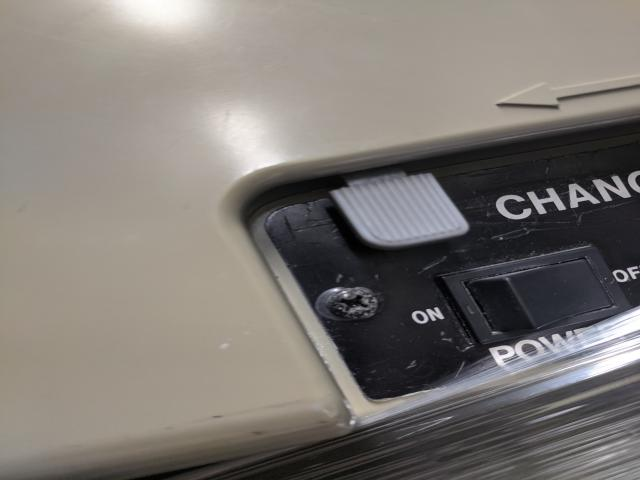CRS: (325, 288, 382, 321)
